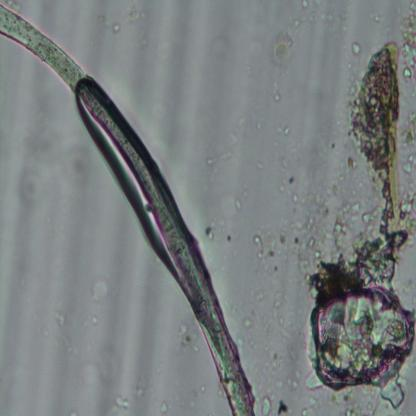Background material: (306, 237, 416, 416), (345, 42, 416, 250), (256, 171, 354, 270), (153, 0, 187, 155), (0, 212, 28, 394), (132, 257, 162, 391), (26, 115, 90, 177), (106, 202, 131, 356), (390, 0, 416, 83), (268, 18, 305, 72), (74, 349, 120, 389), (50, 306, 76, 356), (257, 344, 284, 392), (14, 172, 48, 210), (209, 26, 235, 64), (81, 278, 109, 305), (177, 323, 201, 353), (399, 110, 416, 148), (109, 393, 131, 416), (124, 0, 142, 27), (255, 396, 277, 416), (202, 222, 219, 246), (272, 289, 284, 322), (133, 380, 152, 400), (277, 394, 292, 416), (400, 155, 416, 174), (155, 397, 171, 415), (288, 367, 300, 390), (218, 150, 235, 166), (270, 78, 281, 102), (225, 131, 240, 146), (279, 154, 289, 171), (276, 124, 290, 136), (110, 19, 122, 33), (188, 390, 196, 410), (253, 160, 266, 172), (348, 43, 362, 54), (218, 218, 228, 232), (205, 157, 219, 167), (347, 156, 357, 170), (300, 0, 310, 12), (245, 318, 254, 331), (242, 188, 250, 199), (225, 235, 234, 243), (91, 314, 97, 326), (328, 141, 337, 149), (245, 65, 251, 76), (291, 194, 298, 203), (236, 200, 242, 210), (200, 384, 206, 394), (258, 127, 262, 132)
Microfibre: (0, 5, 253, 416)
